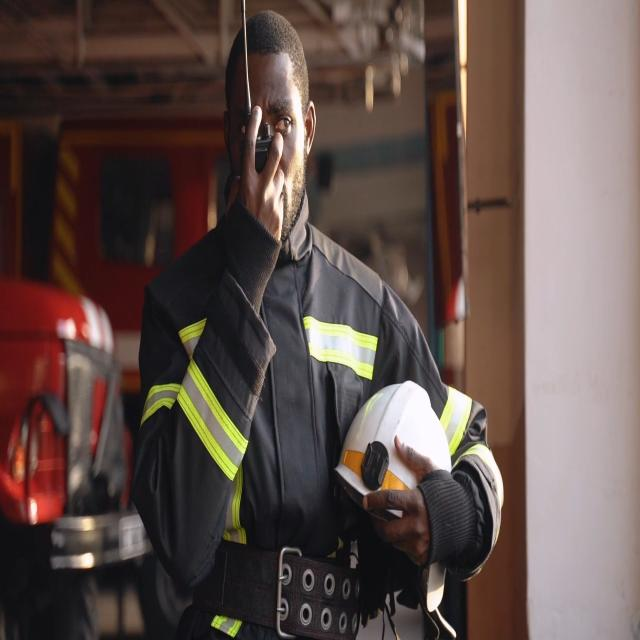Jacket_Wearer: (139, 200, 499, 636)
Person: (132, 10, 507, 640)
